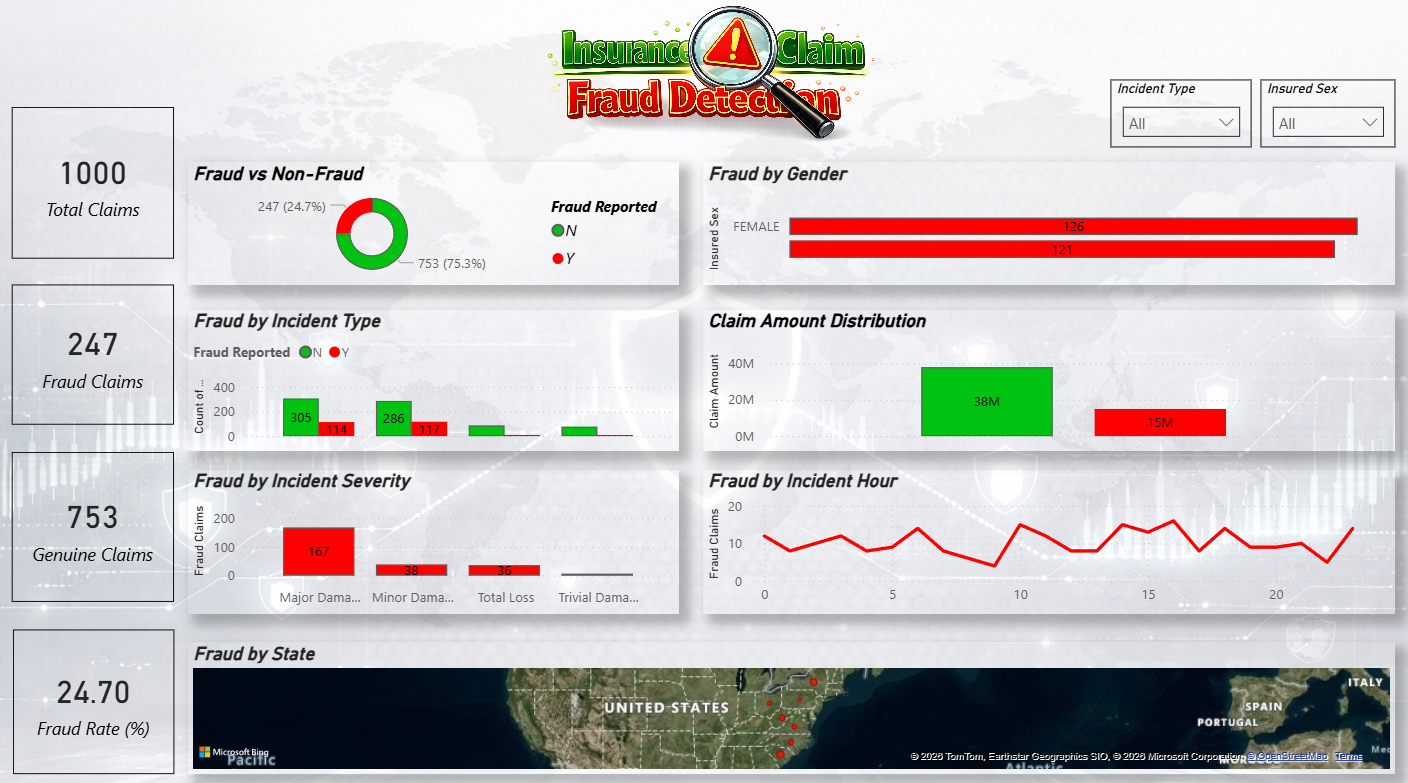

What the dashboard file says about the page in this screenshot:
{"tool":"powerbi","page":{"name":"ML project Dash","canvas":[1280,720],"ordinal":0},"visuals":[{"type":"image","box":[442.3,11.3,393.6,167.9],"z":0},{"type":"card","title":"Total Claims","fields":{"Values":["insurance_fraudulent_train_data.Total Claims"]},"box":[12.5,104.3,147.4,137.2],"z":1000},{"type":"card","fields":{"Values":["insurance_fraudulent_train_data.Fraud Claims"]},"box":[12.5,265.4,147.4,127],"z":2000},{"type":"card","fields":{"Values":["insurance_fraudulent_train_data.Genuine Claims"]},"box":[12.5,417.4,147.4,136.1],"z":3000},{"type":"card","fields":{"Values":["insurance_fraudulent_train_data.Fraud Rate (%)"]},"box":[14,577.9,146.5,131.4],"z":4000},{"type":"donutChart","title":"Fraud vs Non-Fraud","fields":{"Category":["insurance_fraudulent_train_data.fraud_reported"],"Y":["insurance_fraudulent_train_data.Count of Records"]},"box":[172.1,154.7,445.4,111.6],"z":5000},{"type":"clusteredColumnChart","title":"Fraud by Incident Type","fields":{"Category":["insurance_fraudulent_train_data.incident_type"],"Y":["insurance_fraudulent_train_data.Count of Records"],"Series":["insurance_fraudulent_train_data.fraud_reported"]},"box":[172.1,288.4,445.4,129.1],"z":6000},{"type":"columnChart","title":"Fraud by Incident Severity","fields":{"Category":["insurance_fraudulent_train_data.incident_severity"],"Y":["insurance_fraudulent_train_data.Fraud Claims"]},"box":[172.1,433.7,445.4,131.4],"z":7000},{"type":"barChart","title":"Fraud by Gender","fields":{"Category":["insurance_fraudulent_train_data.insured_sex"],"Y":["insurance_fraudulent_train_data.Fraud Claims"]},"box":[639.5,154.7,627.9,111.6],"z":8000},{"type":"columnChart","title":"Claim Amount Distribution","fields":{"Category":["insurance_fraudulent_train_data.fraud_reported"],"Y":["Sum(insurance_fraudulent_train_data.total_claim_amount)"]},"box":[639.5,288.4,627.9,129.1],"z":9000},{"type":"map","title":"Fraud by State","fields":{"Category":["insurance_fraudulent_train_data.incident_state"],"Size":["insurance_fraudulent_train_data.Fraud Claims"]},"box":[172.1,589.5,1095.4,119.8],"z":10000},{"type":"lineChart","title":"Fraud by Incident Hour","fields":{"Category":["insurance_fraudulent_train_data.incident_hour_of_the_day"],"Y":["insurance_fraudulent_train_data.Fraud Claims"]},"box":[639.5,433.7,627.9,131.4],"z":11000},{"type":"slicer","title":"Incident Type","fields":{"Values":["insurance_fraudulent_train_data.incident_type"]},"box":[1009.5,79.4,128.2,61.2],"z":12000},{"type":"slicer","title":"Insured Sex","fields":{"Values":["insurance_fraudulent_train_data.insured_sex"]},"box":[1145.6,79.4,122.5,61.2],"z":13000}]}

Visuals, with their boxes in screenshot pixels (x1, y1, x2, y2), scaled from the page's 1280x720 canvas onto the 1408x783 screenshot:
image: crop(487, 12, 919, 195)
"Total Claims" card: crop(14, 113, 176, 263)
card - insurance_fraudulent_train_data.Fraud Claims: crop(14, 289, 176, 427)
card - insurance_fraudulent_train_data.Genuine Claims: crop(14, 454, 176, 602)
card - insurance_fraudulent_train_data.Fraud Rate (%): crop(15, 628, 177, 771)
"Fraud vs Non-Fraud" donutChart: crop(189, 168, 679, 290)
"Fraud by Incident Type" clusteredColumnChart: crop(189, 314, 679, 454)
"Fraud by Incident Severity" columnChart: crop(189, 472, 679, 615)
"Fraud by Gender" barChart: crop(703, 168, 1394, 290)
"Claim Amount Distribution" columnChart: crop(703, 314, 1394, 454)
"Fraud by State" map: crop(189, 641, 1394, 771)
"Fraud by Incident Hour" lineChart: crop(703, 472, 1394, 615)
"Incident Type" slicer: crop(1110, 86, 1251, 153)
"Insured Sex" slicer: crop(1260, 86, 1395, 153)
